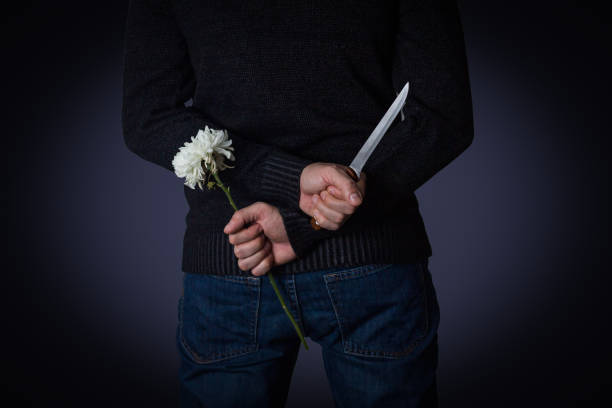knife: (310, 82, 412, 232)
